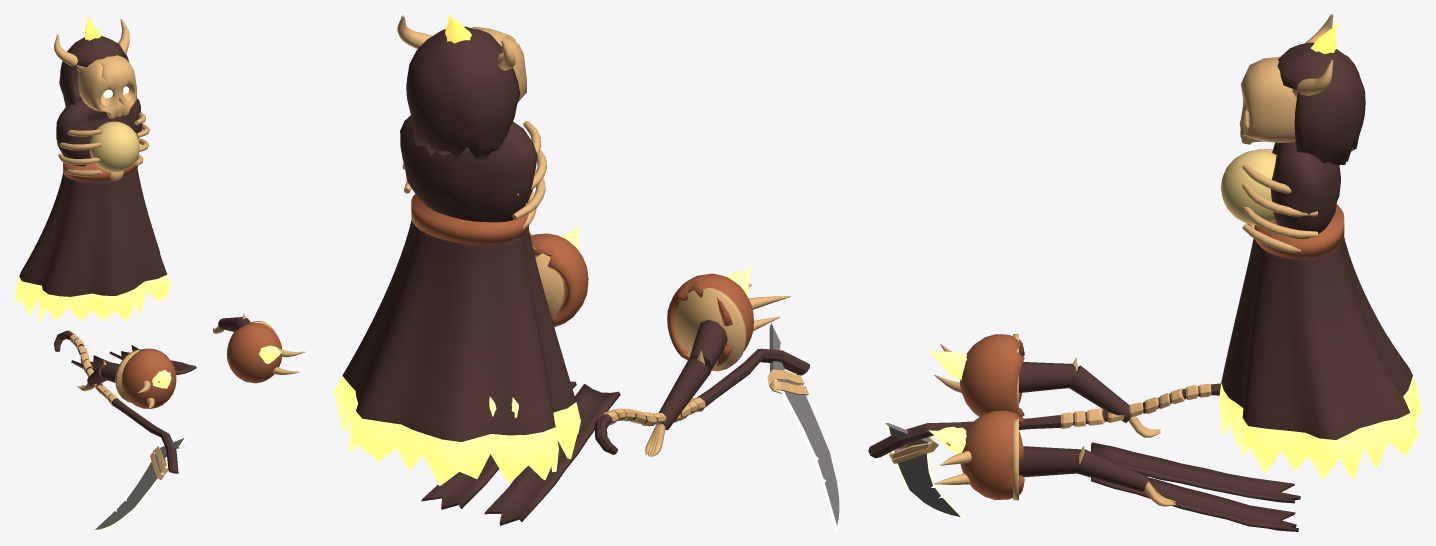
Rendered from scythe-demon.fbx.
3 views of the same model, side by side, from view 1: azimuth 30°, elevation 25°; view 2: azimuth 150°, elevation 25°; view 3: azimuth 270°, elevation 25° (orthographic). The views are drawn at different scales.
Visible parts, largest first — view 1: Robe, Scythe_nc, Head, PauldronL_Shell, PauldronR_Shell, Torso, WeakPoint, Hood_nc, Belt_nc, HornR, PauldronR_Rim_nc, FlapL_nc; view 2: Robe, Hood_nc, Torso, Scythe_nc, FlapR_nc, PauldronR_Rim_nc, Belt_nc, PauldronL_Shell, PauldronR_Shell, FlapL_nc, ArmR_Fore, ArmR_Upper (+2 smaller); view 3: Robe, Hood_nc, Scythe_nc, Torso, PauldronR_Shell, PauldronL_Shell, FlapR_nc, Head, FlapL_nc, WeakPoint, Belt_nc, ArmL_Upper (+7 smaller).
Boxes of the visible parts, x1,y1,x2,y2 form: Robe: (14,168,170,322); Scythe_nc: (54,330,187,531); Head: (78,55,136,118); PauldronL_Shell: (226,322,281,383); PauldronR_Shell: (121,348,176,408); Torso: (56,98,142,166); WeakPoint: (89,121,139,172); Hood_nc: (59,36,128,106); Belt_nc: (63,158,137,182); HornR: (54,34,83,71); PauldronR_Rim_nc: (115,349,141,402); FlapL_nc: (109,345,196,374); Robe: (334,220,580,485); Hood_nc: (406,26,520,163); Torso: (400,115,537,222); Scythe_nc: (594,323,839,531); FlapR_nc: (484,384,620,525); PauldronR_Rim_nc: (674,287,746,371); Belt_nc: (411,194,528,244); PauldronL_Shell: (530,233,588,326); PauldronR_Shell: (667,273,753,366); FlapL_nc: (421,381,576,509); ArmR_Fore: (658,358,710,430); ArmR_Upper: (689,319,727,370); Robe: (1218,236,1421,479); Hood_nc: (1277,42,1365,165); Scythe_nc: (868,383,1220,517); Torso: (1270,141,1340,238); PauldronR_Shell: (960,334,1024,416); PauldronL_Shell: (960,410,1024,499); FlapR_nc: (1091,442,1300,503); Head: (1239,56,1296,144); FlapL_nc: (1091,477,1298,531); WeakPoint: (1221,150,1276,225); Belt_nc: (1254,204,1344,258); ArmL_Upper: (1019,446,1080,477).
Size of the model in its own units: 2.33 by 4.28 by 3.68.
